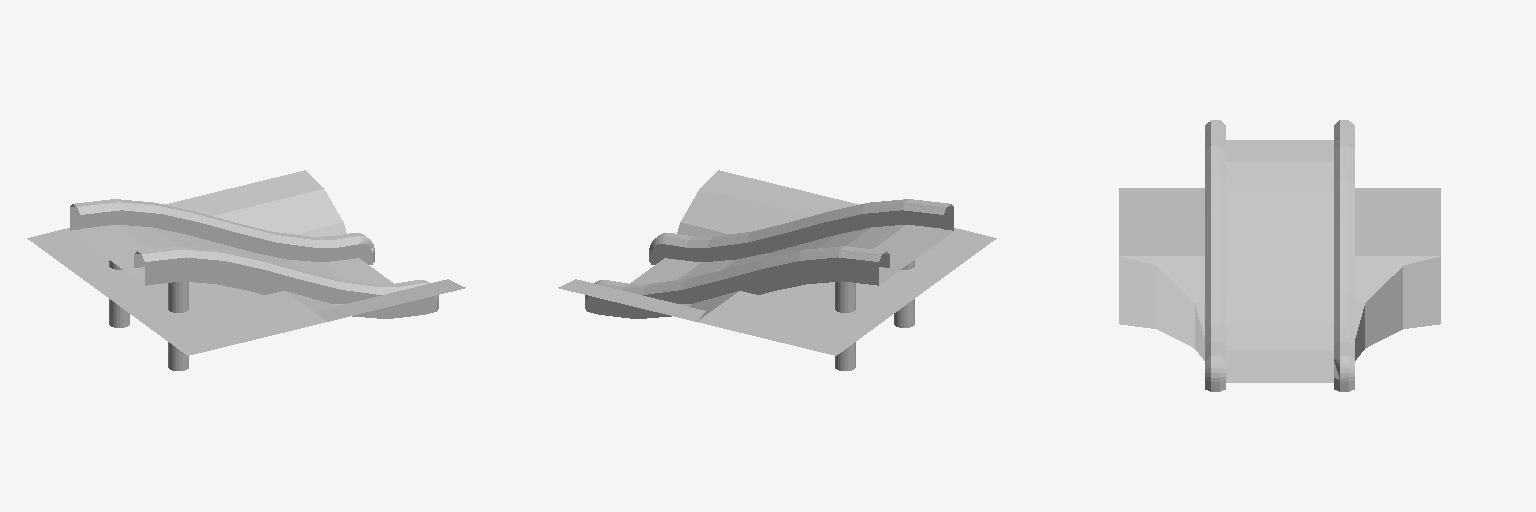
File: Track_Bridge_Ramp_Flat_3x3.obj
3 renders of one model, left to right at view 1: azimuth 30°, elevation 25°; view 2: azimuth 150°, elevation 25°; view 3: azimuth 270°, elevation 25°, orthographic.
Parts seen in each view (by area): view 1: object4, object3, object1; view 2: object4, object3, object2; view 3: object4, object3.
Part boxes in pixels (left/top/right/bottom): object4: left=70, top=199, right=438, bottom=318; object3: left=27, top=170, right=465, bottom=355; object1: left=168, top=281, right=188, bottom=370; object4: left=585, top=199, right=953, bottom=318; object3: left=558, top=170, right=996, bottom=355; object2: left=835, top=281, right=855, bottom=370; object4: left=1205, top=120, right=1354, bottom=391; object3: left=1119, top=188, right=1440, bottom=360.
Bounding box in the file's own units: 3.2 × 1.3 × 3.